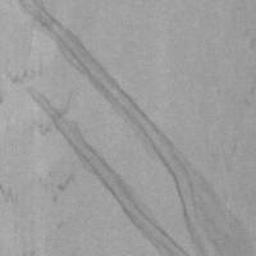Water spot: (10, 0, 256, 256), (29, 84, 188, 256)
